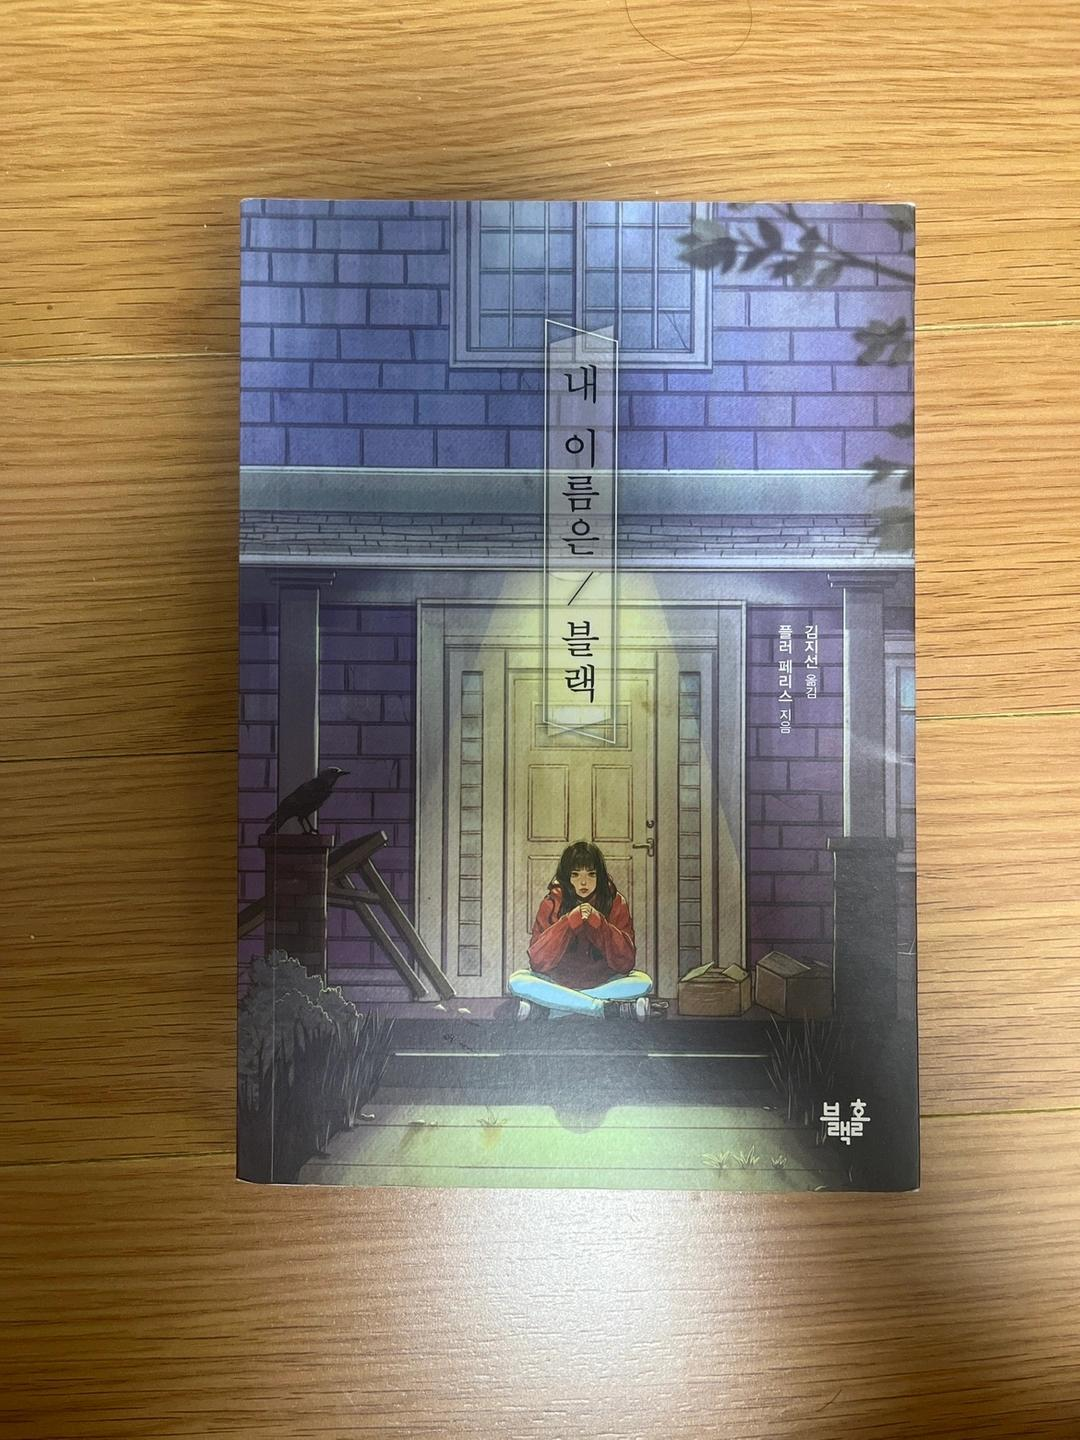book: (208, 173, 944, 1181)
